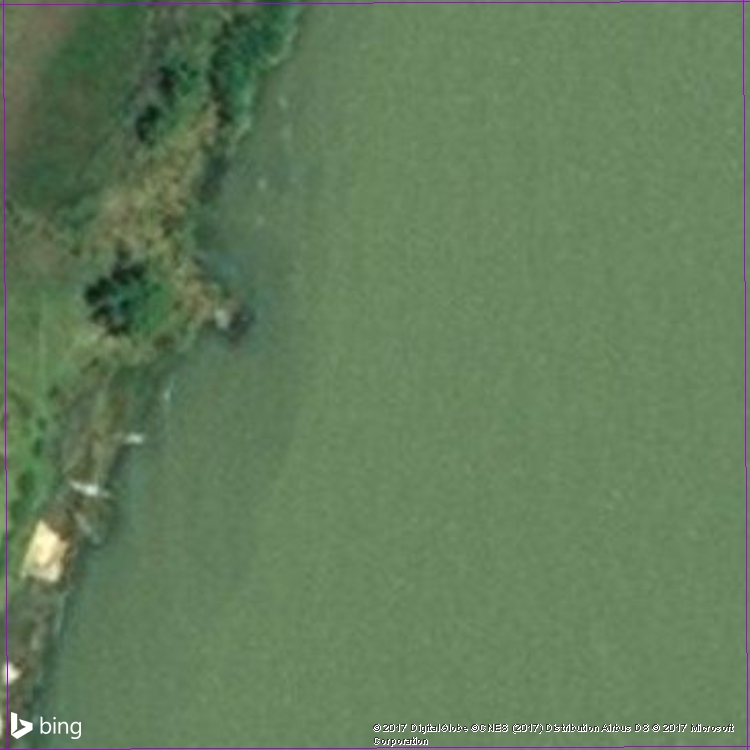boat: (65, 508, 112, 549), (61, 474, 120, 500)
